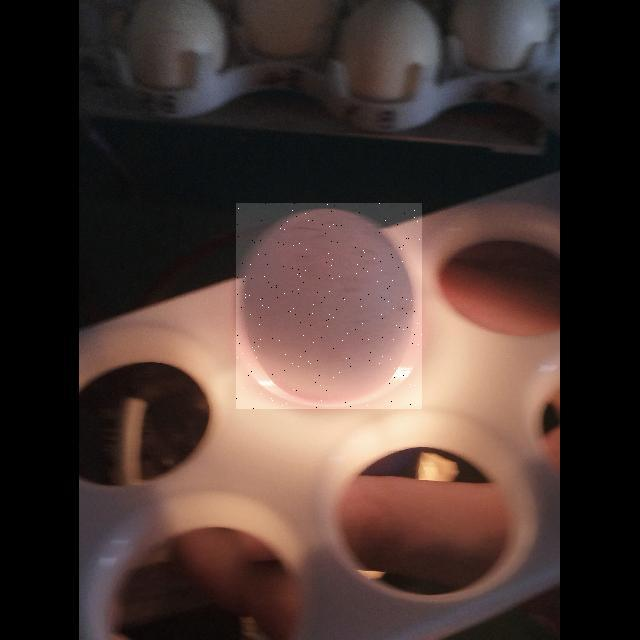B - Fair: (236, 203, 422, 409)
